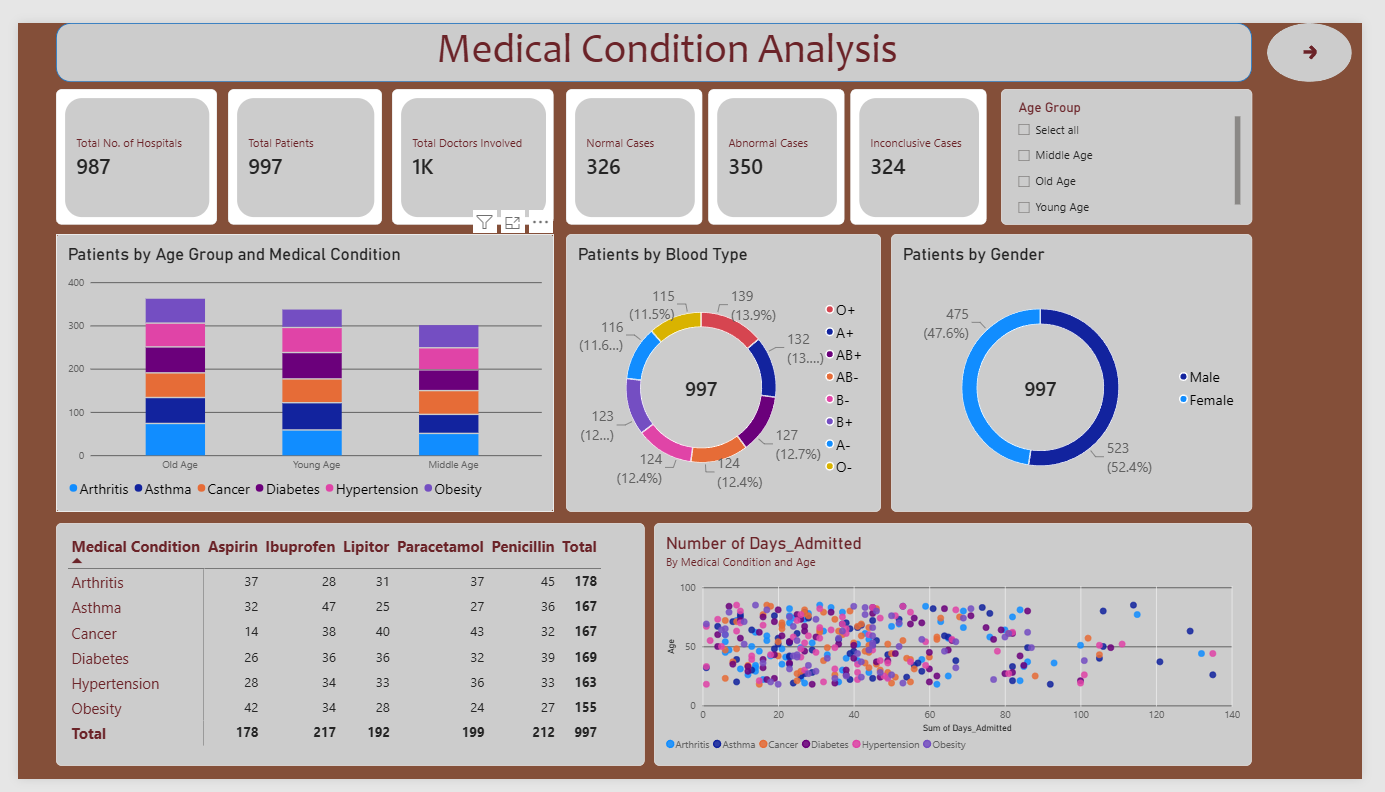

The page's visual inventory and layout, read from the dashboard file:
{"tool":"powerbi","page":{"name":"Medical Condition Analysis","canvas":[1920,1080],"ordinal":0},"visuals":[{"type":"cardVisual","fields":{"Data":["Healthcare.Total No. of Hospitals"]},"box":[54.3,94.3,230,194.3],"z":0},{"type":"shape","box":[54.3,0,1708.6,84.3],"z":1000},{"type":"textbox","box":[284.3,0,1285.7,94.3],"z":2000},{"type":"cardVisual","fields":{"Data":["Healthcare.Total Patients"]},"box":[300,94.3,220,194.3],"z":3000},{"type":"cardVisual","fields":{"Data":["Healthcare.Total Doctors Involved"]},"box":[534.3,94.3,231.4,194.3],"z":4000},{"type":"cardVisual","fields":{"Data":["Healthcare.Normal Test Results","Healthcare.Abnormal Test Results","Healthcare.Inconclusive Test Results"]},"box":[782.9,94.3,601.4,194.3],"z":5000},{"type":"columnChart","title":"Patients by Age Group and Medical Condition","fields":{"Category":["Healthcare.Age Group"],"Series":["Healthcare.Medical Condition"],"Y":["Healthcare.Total Patients"]},"box":[54.3,301.4,711.4,397.1],"z":6000},{"type":"donutChart","title":"Patients by Blood Type","fields":{"Category":["Healthcare.Blood Type"],"Y":["Healthcare.Total Patients"]},"box":[782.9,301.4,450,397.1],"z":7000},{"type":"donutChart","title":"Patients by Gender","fields":{"Category":["Healthcare.Gender"],"Y":["Healthcare.Total Patients"]},"box":[1247.1,301.4,515.7,397.1],"z":8000},{"type":"slicer","fields":{"Values":["Healthcare.Age Group"]},"box":[1404.3,94.3,358.6,194.3],"z":9000},{"type":"pivotTable","fields":{"Columns":["Healthcare.Medication"],"Rows":["Healthcare.Medical Condition"],"Values":["Healthcare.Total Patients"]},"box":[54.3,714.3,841.4,347.1],"z":10000},{"type":"scatterChart","title":"Number of Days_Admitted","fields":{"Series":["Healthcare.Medical Condition"],"X":["Sum(Healthcare.Days_Admitted)"],"Y":["Healthcare.Age"]},"box":[908.6,714.3,854.3,347.1],"z":11000},{"type":"actionButton","box":[1784.3,0,121.4,84.3],"z":12000}]}

Visuals, with their boxes in screenshot pixels (x1, y1, x2, y2), scaled from the page's 1920x1080 canvas onto the 1385x792 screenshot:
cardVisual - Healthcare.Total No. of Hospitals: Rect(39, 69, 205, 212)
shape: Rect(39, 0, 1272, 62)
textbox: Rect(205, 0, 1133, 69)
cardVisual - Healthcare.Total Patients: Rect(216, 69, 375, 212)
cardVisual - Healthcare.Total Doctors Involved: Rect(385, 69, 552, 212)
cardVisual - Healthcare.Normal Test Results x Healthcare.Abnormal Test Results: Rect(565, 69, 999, 212)
"Patients by Age Group and Medical Condition" columnChart: Rect(39, 221, 552, 512)
"Patients by Blood Type" donutChart: Rect(565, 221, 889, 512)
"Patients by Gender" donutChart: Rect(900, 221, 1272, 512)
slicer - Healthcare.Age Group: Rect(1013, 69, 1272, 212)
pivotTable - Healthcare.Medication x Healthcare.Medical Condition: Rect(39, 524, 646, 778)
"Number of Days_Admitted" scatterChart: Rect(655, 524, 1272, 778)
actionButton: Rect(1287, 0, 1375, 62)
